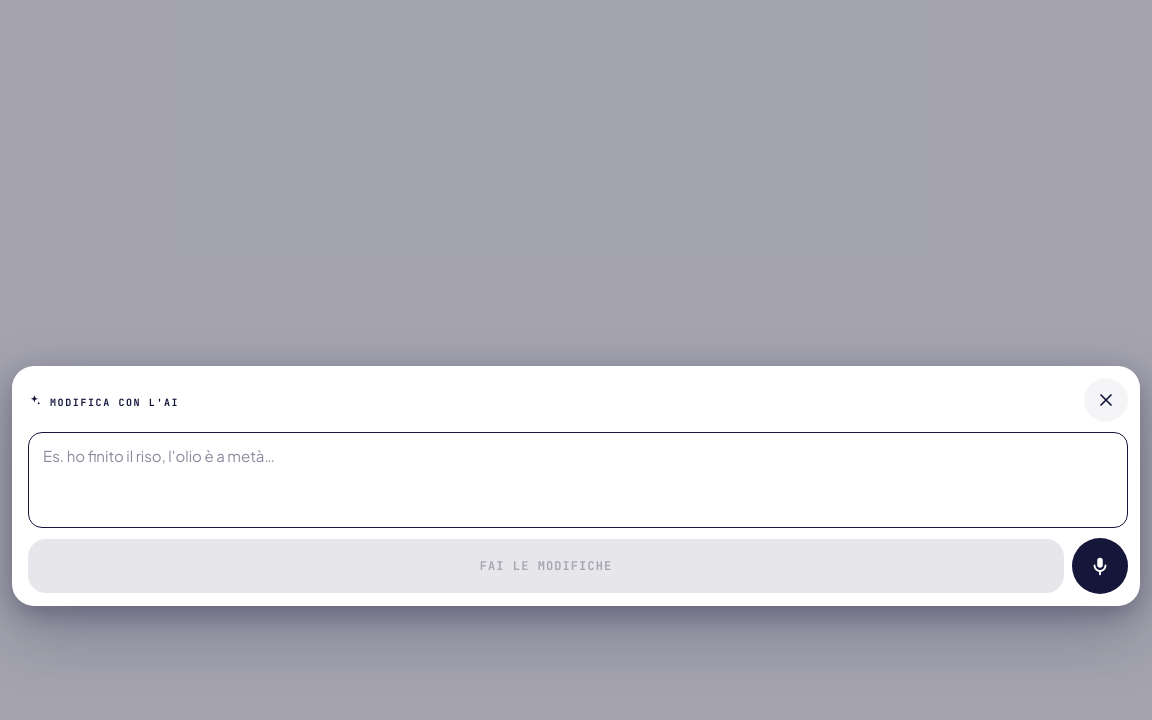
Test: WidgetAI › l'invio › 422 → «Non ho capito la nota, riprova.», la bozza resta e si può rimandare
Type "bla bla" into the text box named "Nota per l'AI" at coordinates (578, 480), box [28,432,1128,528]
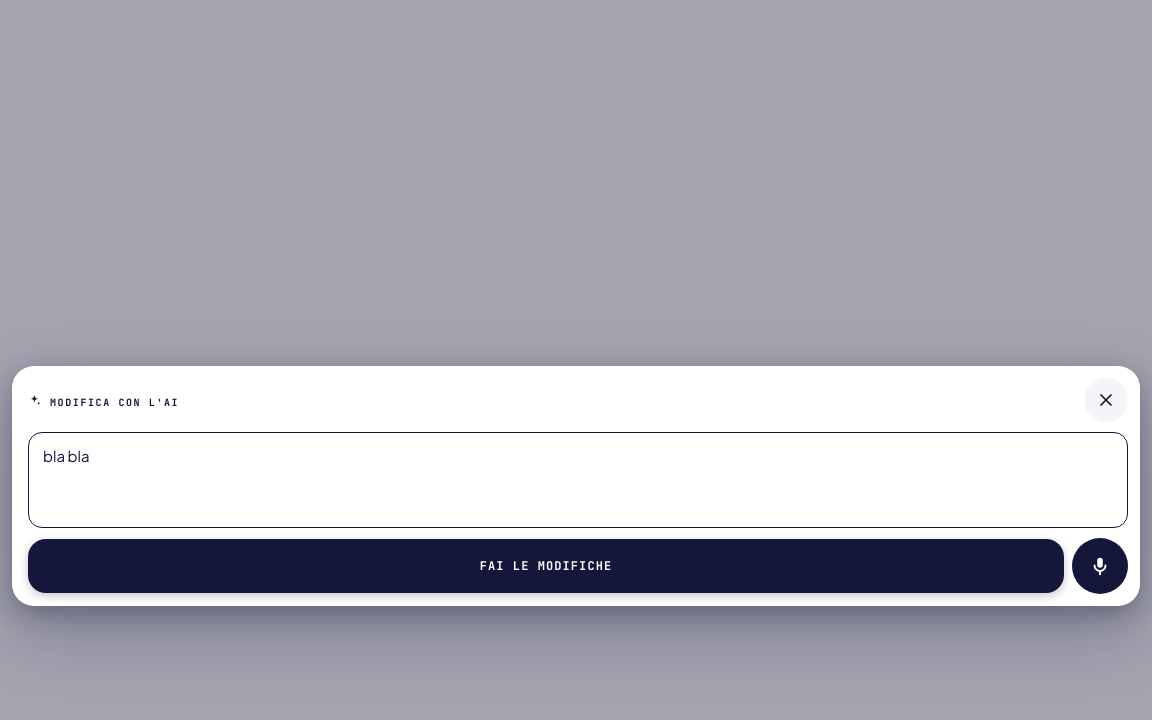
Click the button "FAI LE MODIFICHE" at coordinates (546, 566), box [28,539,1064,593]
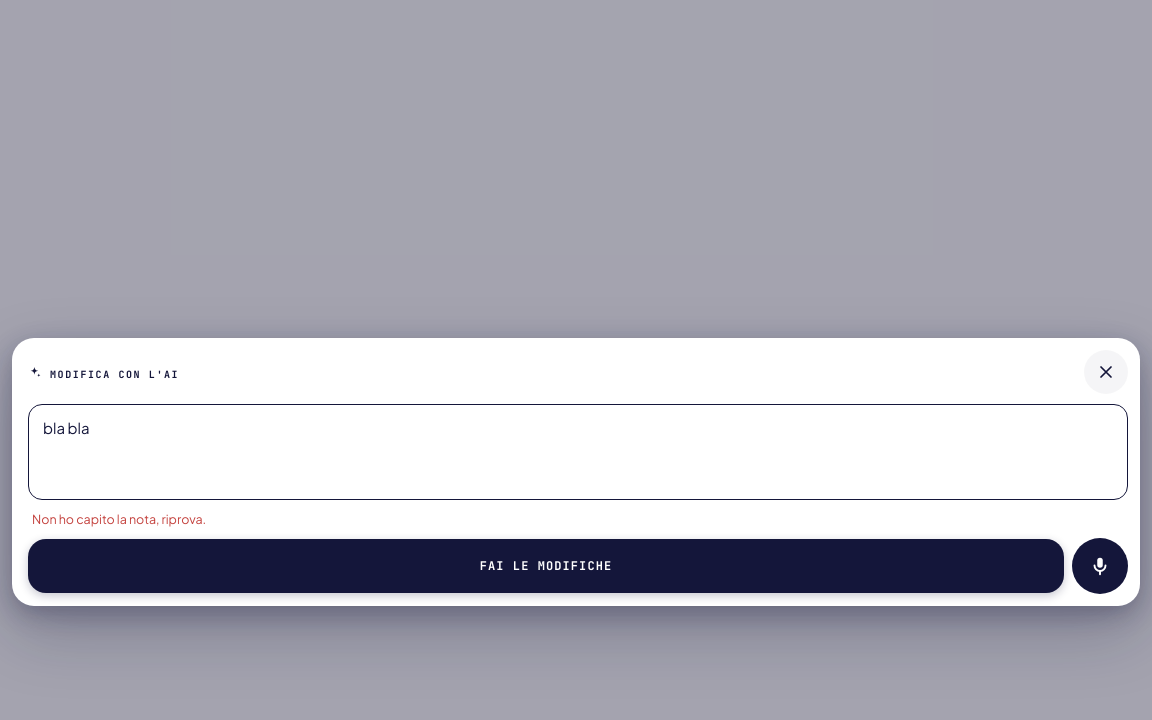
Expected: the text box holds "bla bla", [28,404,1128,500]
Expected: the button "FAI LE MODIFICHE" is enabled, [28,539,1064,593]
Expected: the message reads "Non ho capito la nota, riprova.", [32,511,206,527]
